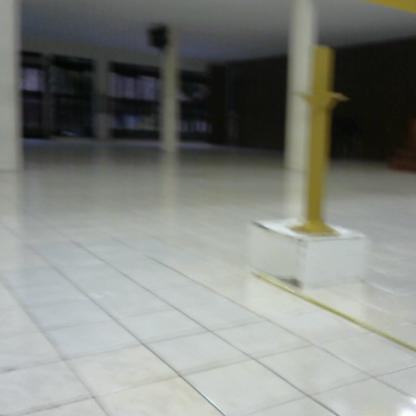pole: (289, 42, 353, 243)
